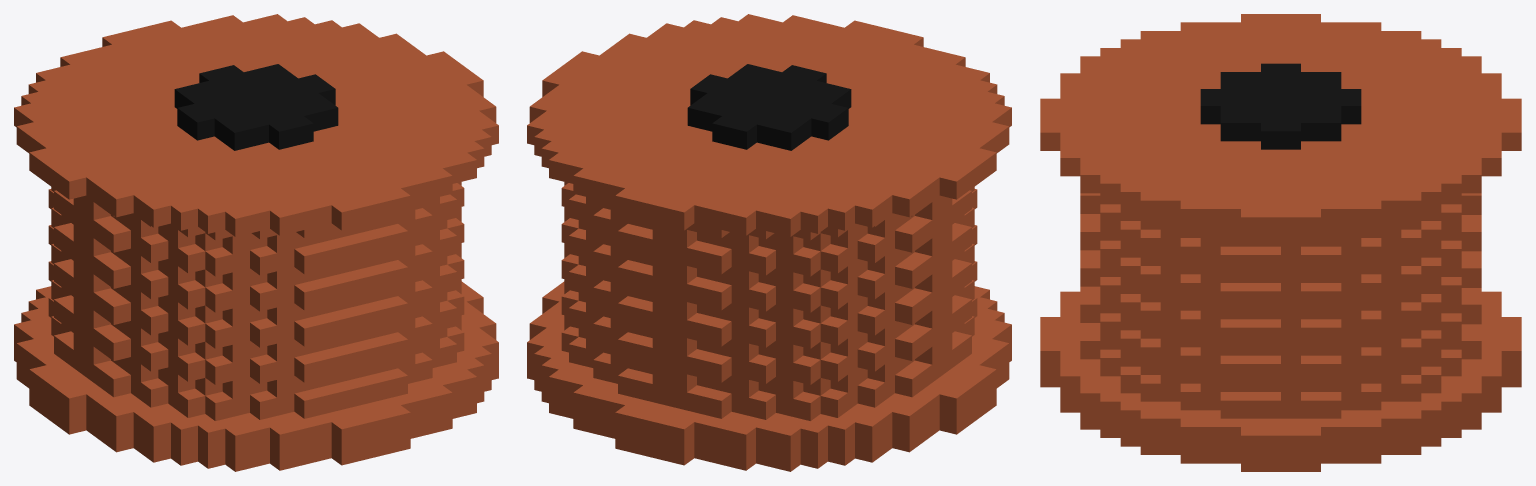
Rendered from copper_wire.glb.
3 renders of one model, left to right at view 1: azimuth 30°, elevation 25°; view 2: azimuth 150°, elevation 25°; view 3: azimuth 270°, elevation 25°, orthographic.
Parts seen in each view (by area): view 1: copper_wire:spool; view 2: copper_wire:spool; view 3: copper_wire:spool.
Part boxes in pixels (left/top/right/bottom): copper_wire:spool: left=14, top=14, right=498, bottom=471; copper_wire:spool: left=527, top=14, right=1011, bottom=471; copper_wire:spool: left=1040, top=14, right=1521, bottom=471.
Bounding box in the file's own units: 0.096 × 0.06 × 0.096.
